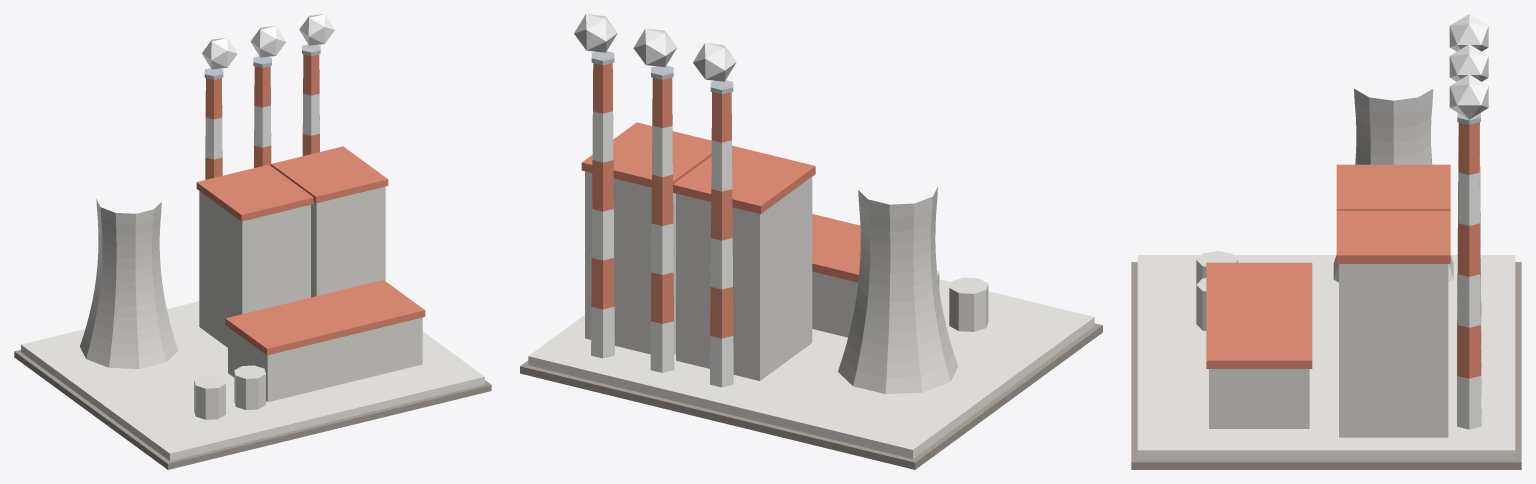
Rendered from coal_low.glb.
3 views of the same model, side by side, from view 1: azimuth 30°, elevation 25°; view 2: azimuth 150°, elevation 25°; view 3: azimuth 270°, elevation 25° (orthographic). The views are drawn at different scales.
Parts seen in each view (by area): view 1: concrete, base, red, rim_6e6458, tank, steam, white, metal; view 2: concrete, base, red, white, rim_6e6458, steam, tank, metal; view 3: base, concrete, red, rim_6e6458, white, steam, tank.
Boxes of the visible parts, x1,y1,x2,y2 form: concrete: (80,186,422,401); base: (21,301,484,460); red: (196,54,425,355); rim_6e6458: (14,350,491,469); tank: (194,365,265,419); steam: (202,14,334,69); white: (205,93,319,159); metal: (204,44,320,79); concrete: (585,171,958,393); base: (528,279,1094,458); red: (581,63,860,338); white: (591,111,733,387); rim_6e6458: (520,323,1102,469); steam: (574,14,736,81); tank: (937,270,988,331); metal: (591,51,733,94); base: (1137,255,1515,459); concrete: (1209,89,1453,437); red: (1206,122,1481,378); rim_6e6458: (1131,262,1521,469); white: (1457,122,1481,429); steam: (1449,14,1488,119); tank: (1196,251,1238,330).
Bounding box in the file's own units: 11.3 × 9.59 × 9.3.
